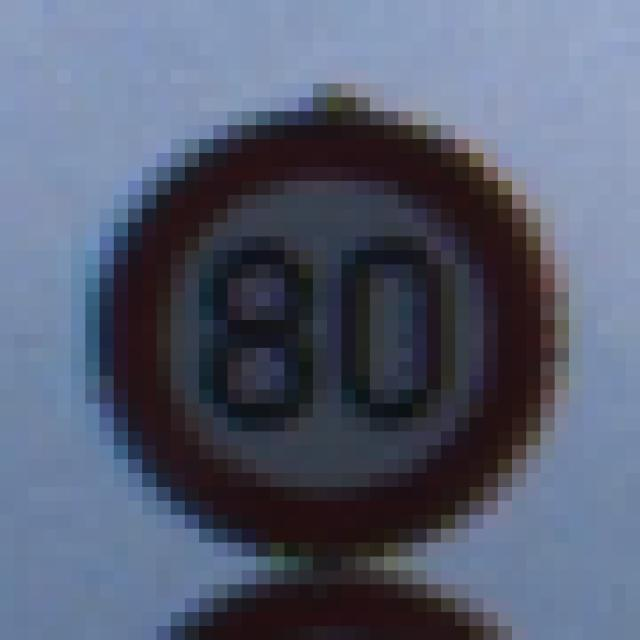Ograniczenie predkosci do 80: (110, 110, 553, 559)
